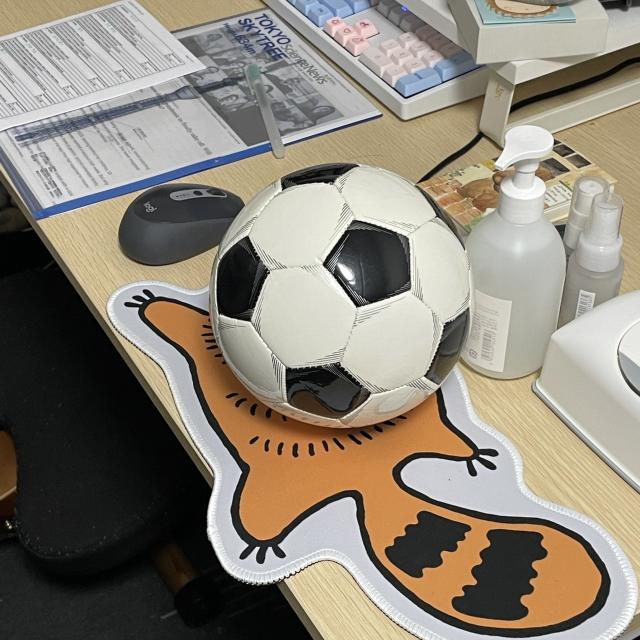ball: (212, 163, 472, 429), (212, 164, 472, 430)
